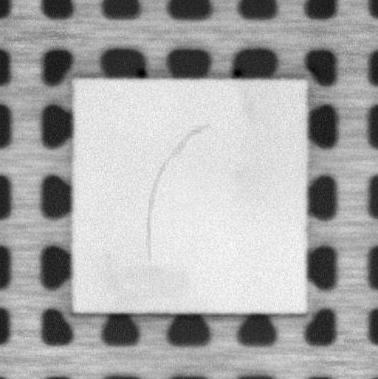DIE_CRACK: (142, 123, 210, 263)
